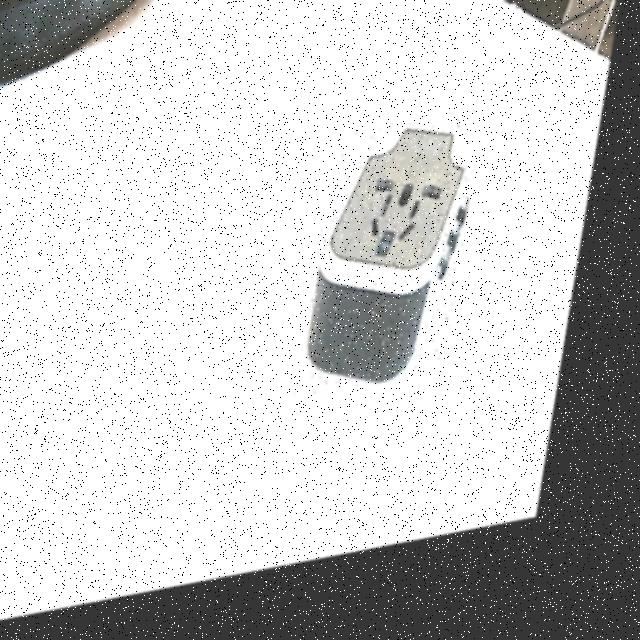adapter: (310, 125, 494, 414)
